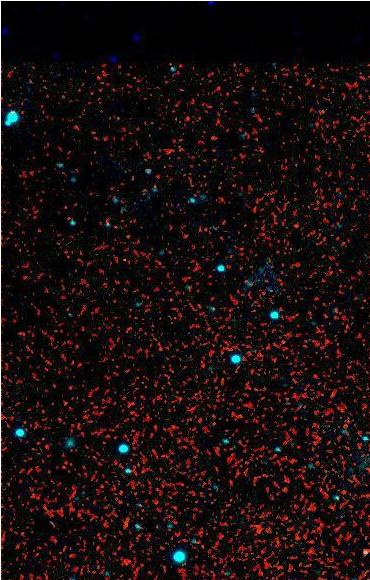star: (348, 534, 370, 564)
